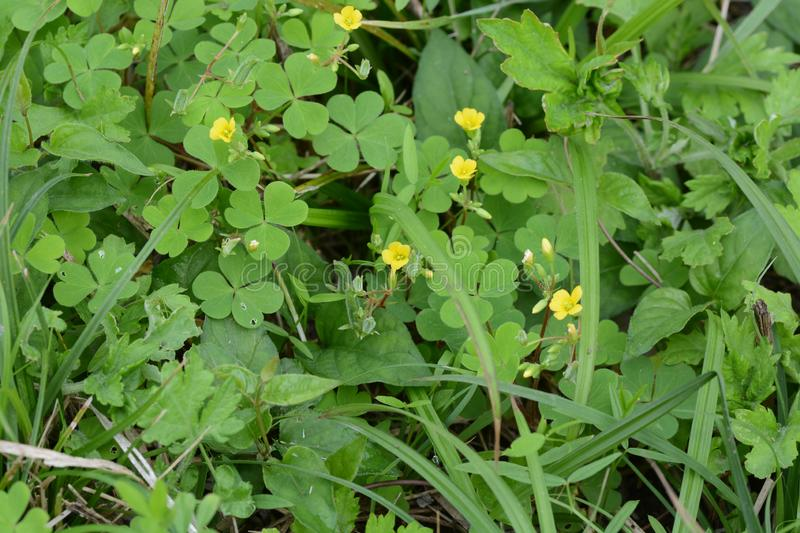oxalis: (19, 24, 334, 279), (376, 208, 541, 389)
